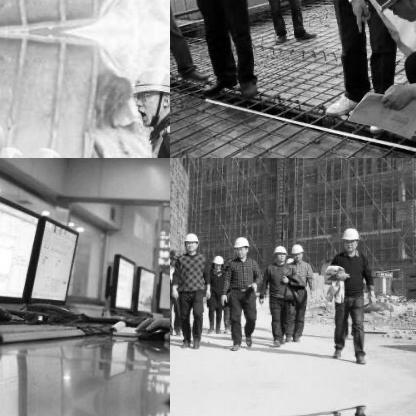Helmet: (128, 61, 169, 129), (351, 0, 415, 20), (16, 141, 67, 157), (336, 223, 360, 252), (232, 232, 248, 258), (182, 228, 200, 251), (271, 241, 287, 263), (288, 241, 304, 261), (208, 252, 224, 270), (170, 244, 182, 265)
